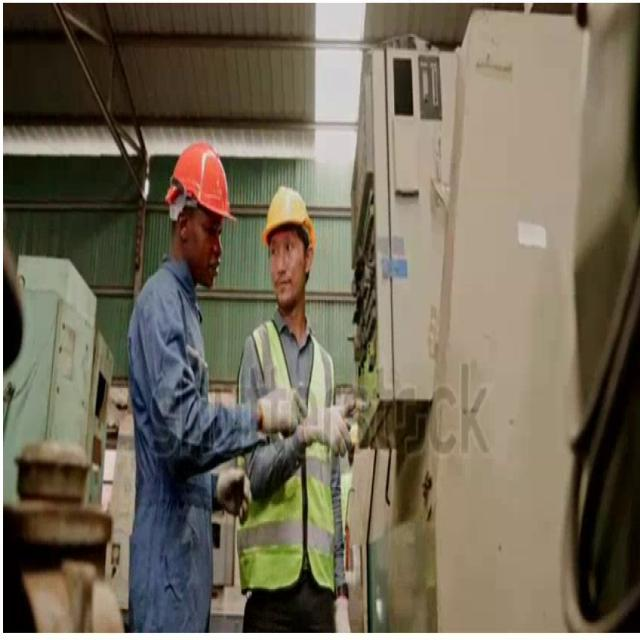gloved: (302, 403, 352, 458), (257, 385, 307, 435), (215, 466, 251, 522), (334, 593, 351, 633)
